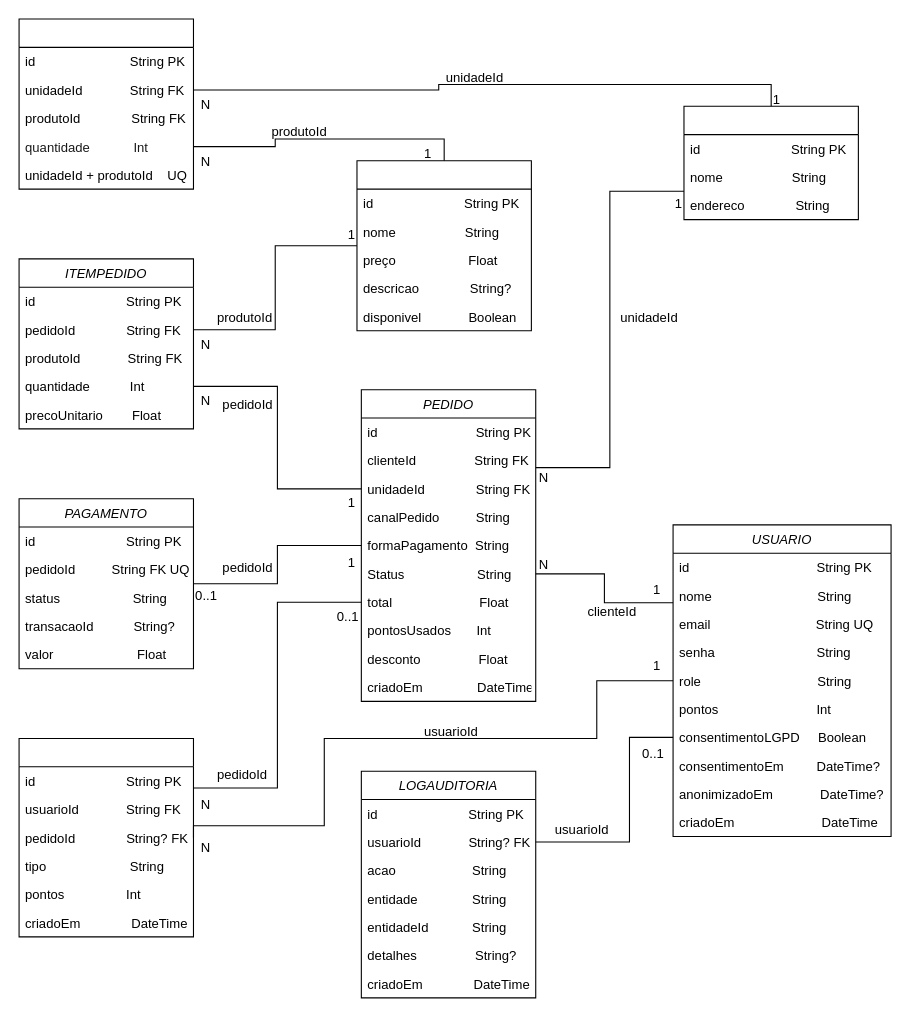
Image size: 910x1020. Some labels were removed from this diagram. The box of each missing label's shape, as (x1, y1, x2, y2) in pixels:
ESTOQUE: (18, 18, 193, 189)
MOVIMENTOPONTOS: (18, 737, 193, 937)
PRODUTO: (356, 160, 531, 331)
UNIDADE: (683, 105, 858, 220)
